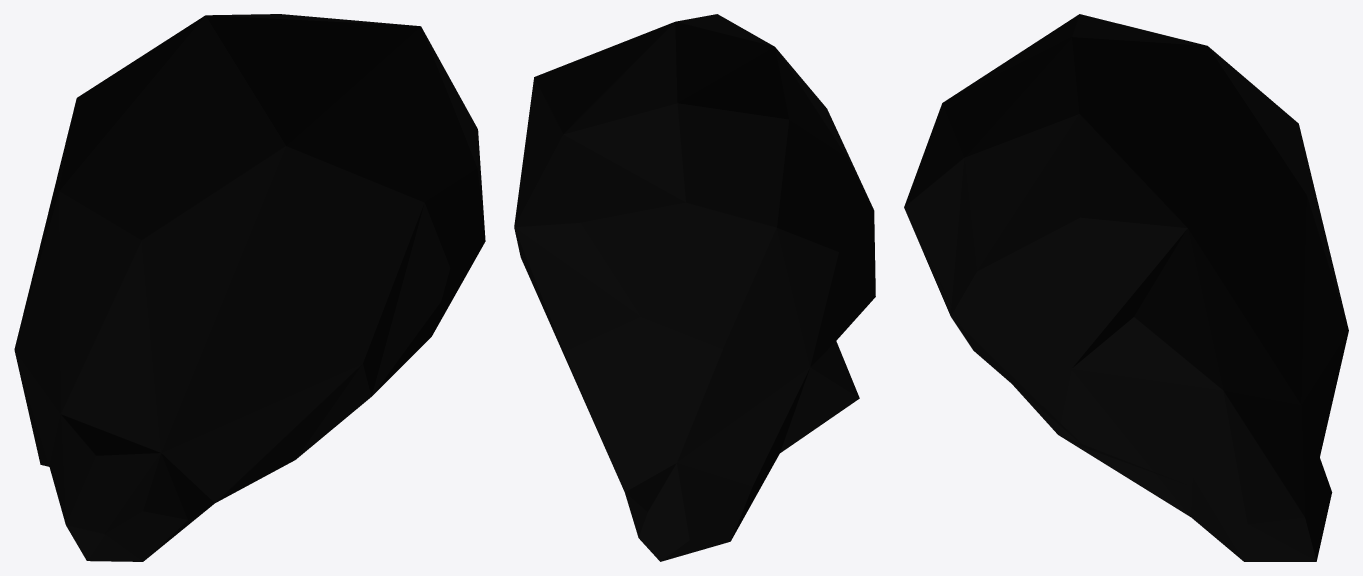
3 views of the same model, side by side, from view 1: azimuth 30°, elevation 25°; view 2: azimuth 150°, elevation 25°; view 3: azimuth 270°, elevation 25° (orthographic). The views are drawn at different scales.
Size of the model in its own units: 0.621 by 0.8591 by 0.6061.
Materials: 1 (1 with a texture image).
